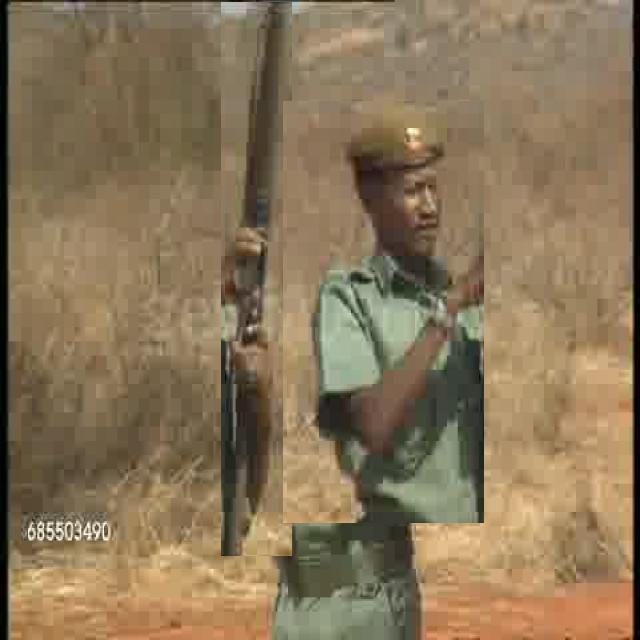poacher: (283, 101, 484, 523)
weapon: (221, 2, 292, 556)
